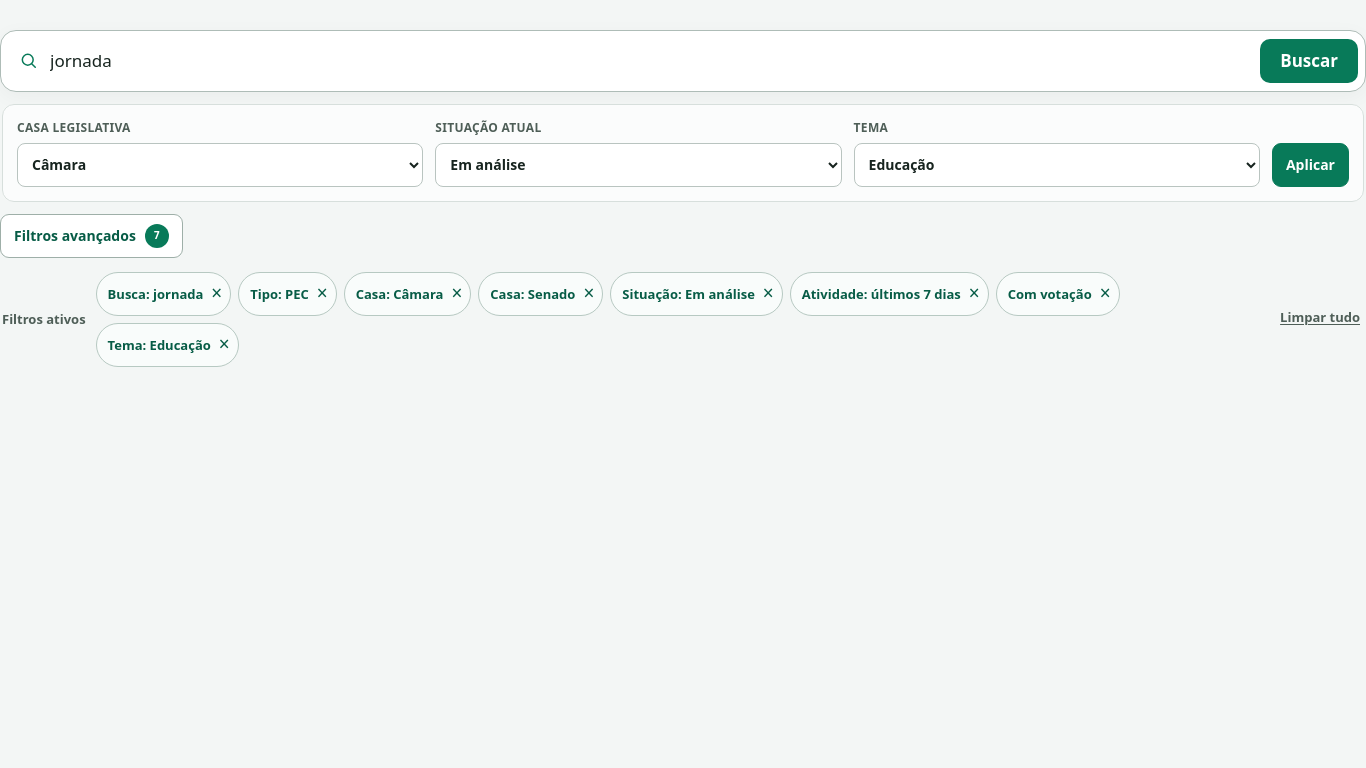
Test: advanced feed filters › debounces and sends an exact sanitized canonical preview body
Click the button "Filtros avançados 7". click: point(91, 236)
box: [0, 214, 183, 258]
Wait 300 ms
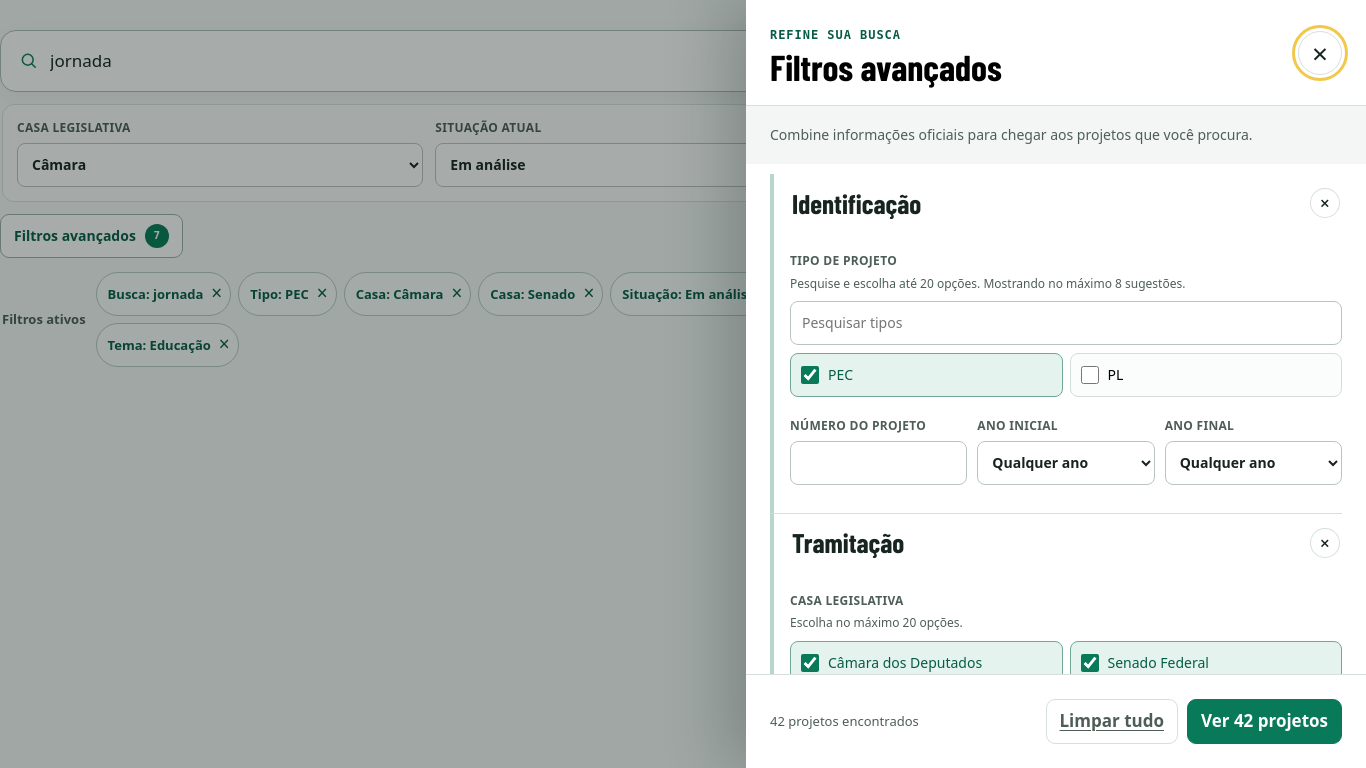
expect the message reads "42 projetos encontrados": met, box [770, 712, 919, 730]
